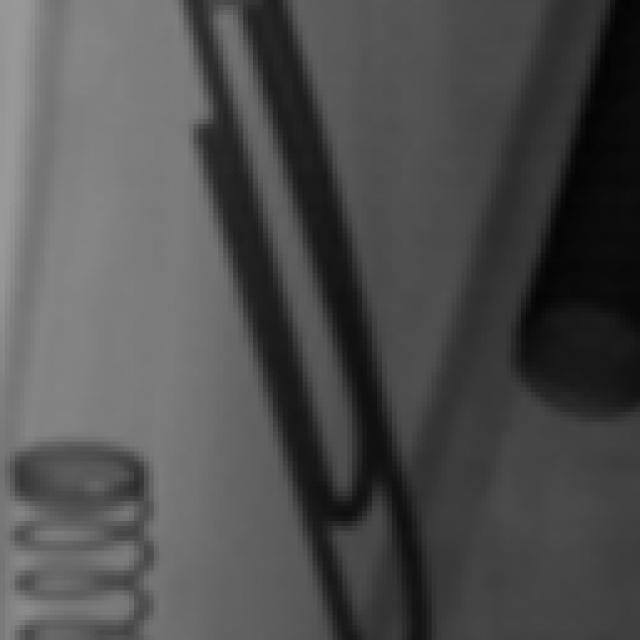BLADE: (518, 22, 640, 479)
